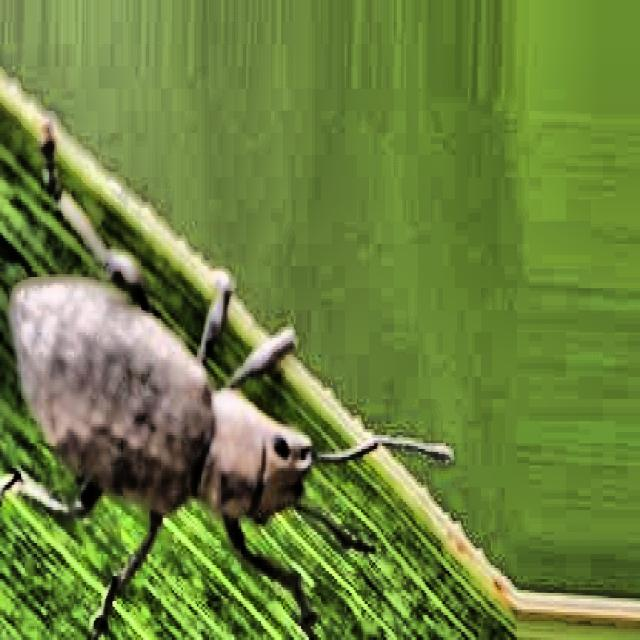Stink bug: (0, 155, 363, 640)
